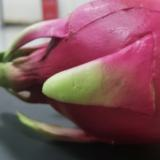pitaya: (1, 1, 160, 154)
